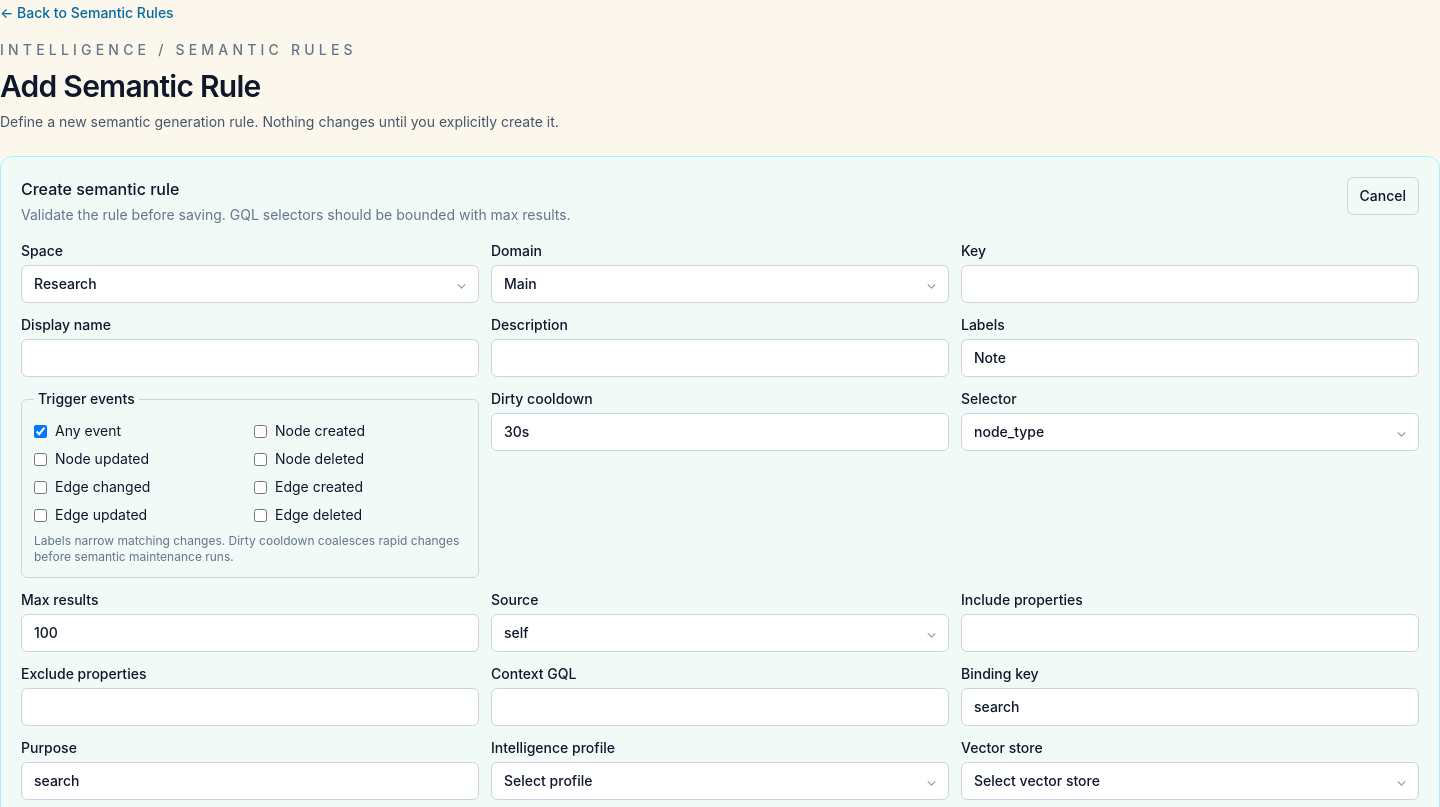
uses the same in-app dialog for the Back to Semantic Rules link
Expected: the heading "Create semantic rule" is shown, [21, 179, 179, 199]
Type "changed" into the field labelled "Key" at (1190, 284), box [961, 265, 1419, 303]
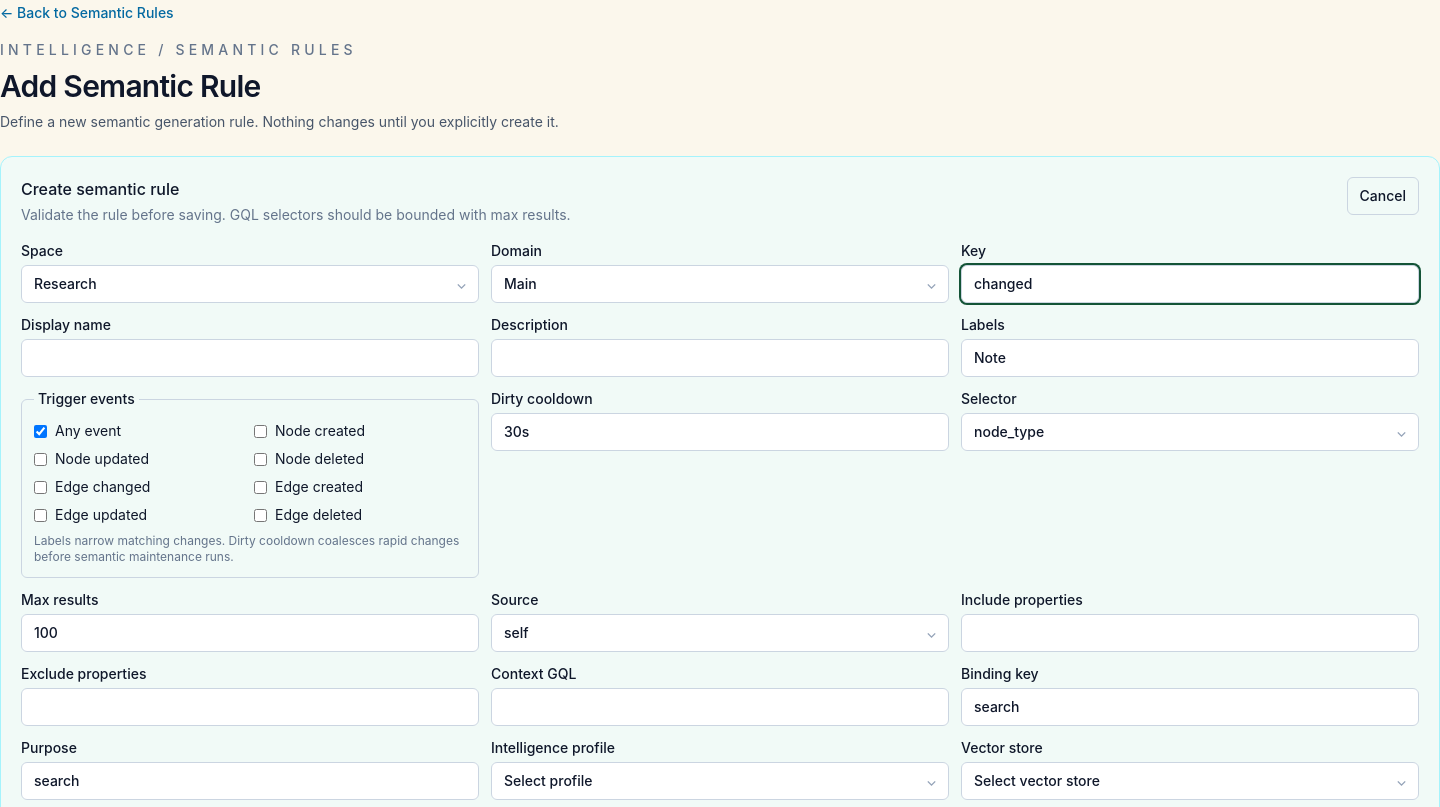
Click the link "← Back to Semantic Rules" at (87, 12), box [0, 4, 174, 21]
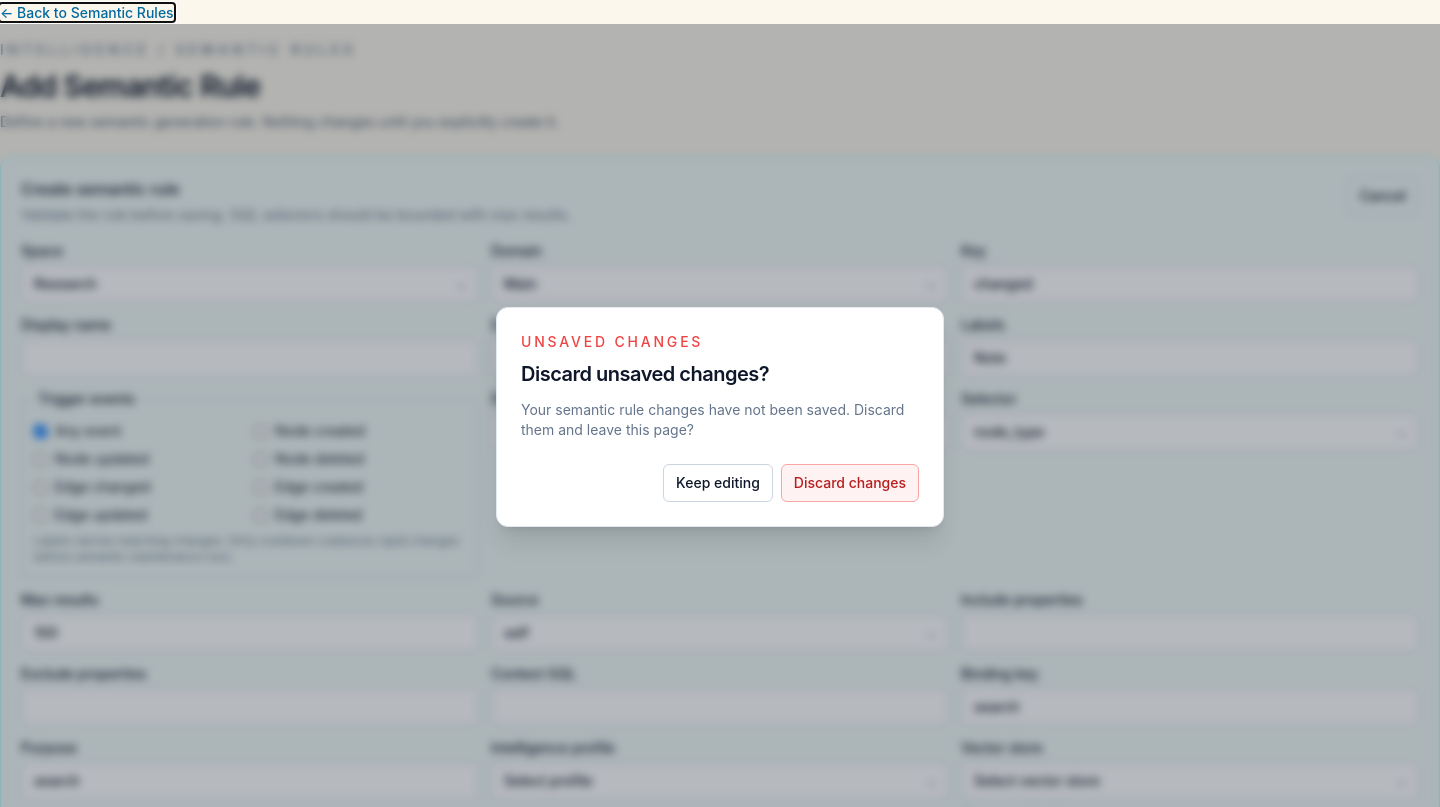
Expected: the heading "Create semantic rule" is shown, [21, 179, 179, 199]
Now the dialog "Discard unsaved changes?" is shown, box [496, 307, 944, 527]
